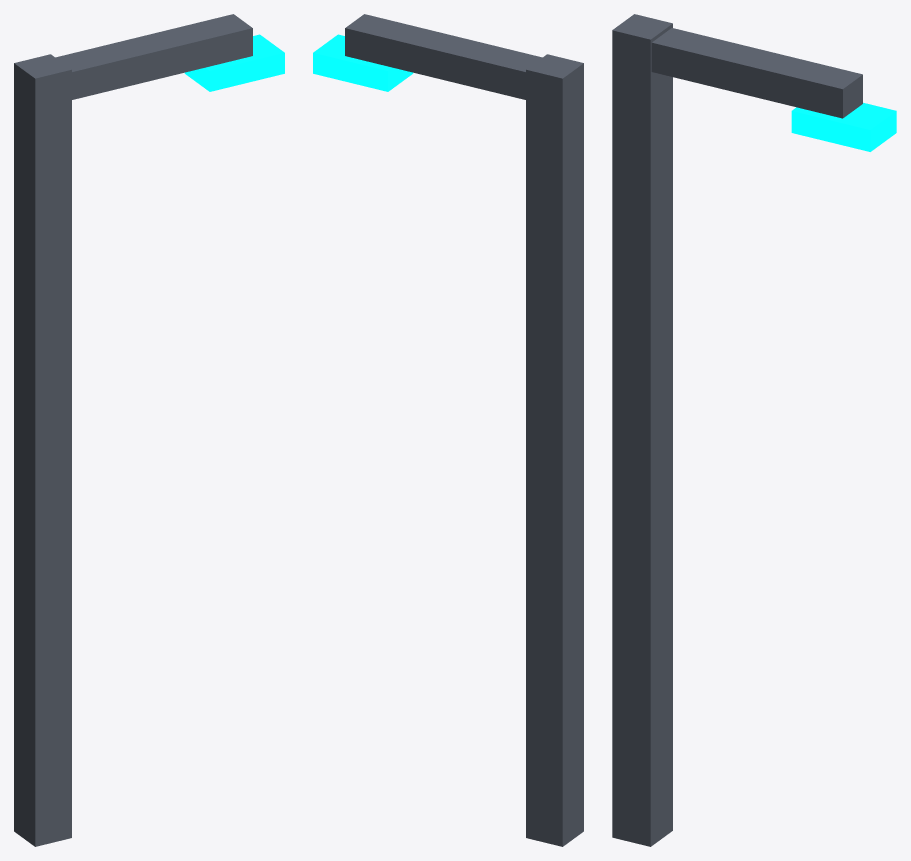
Rendered from cyber_street_lamp.glb.
3 views of the same model, side by side, from view 1: azimuth 30°, elevation 25°; view 2: azimuth 150°, elevation 25°; view 3: azimuth 330°, elevation 25° (orthographic). The views are drawn at different scales.
Parts seen in each view (by area): view 1: RootNode; view 2: RootNode; view 3: RootNode.
Part boxes in pixels (x1,y1,x2,y2): RootNode: (14,14,284,846); RootNode: (313,14,583,846); RootNode: (612,14,896,846).
Bounding box in the file's own units: 1.48 × 4.4 × 0.26.
